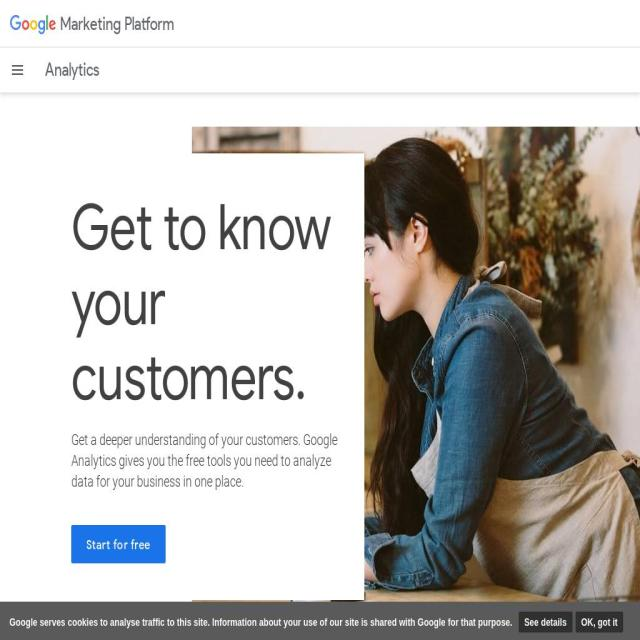button: (70, 525, 166, 563), (10, 4, 56, 44), (518, 612, 573, 632), (4, 52, 31, 88), (575, 612, 623, 632)
heading: (70, 191, 342, 416), (70, 429, 342, 492)
image: (192, 126, 640, 626), (10, 15, 56, 35), (10, 60, 25, 80)
text: (10, 616, 512, 628), (60, 13, 174, 35), (45, 58, 99, 81)
